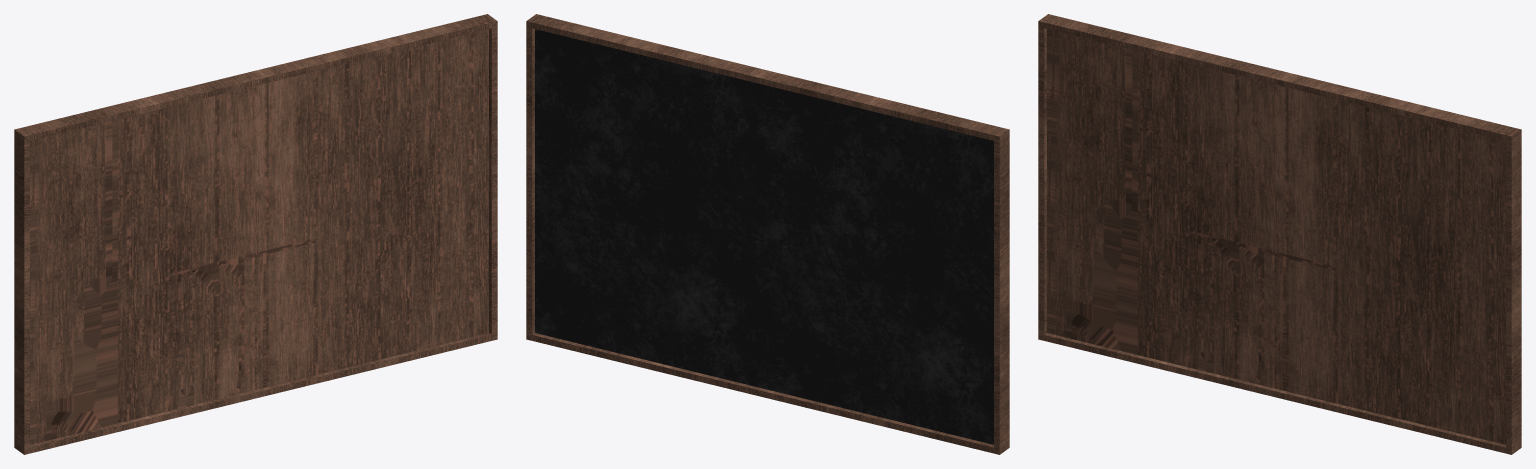
The model's file is board-GUbT5JNx.glb.
3 views of the same model, side by side, from view 1: azimuth 30°, elevation 25°; view 2: azimuth 150°, elevation 25°; view 3: azimuth 330°, elevation 25° (orthographic).
Parts seen in each view (by area): view 1: Cube.001; view 2: Cube.001; view 3: Cube.001.
Boxes of the visible parts, x1,y1,x2,y2 form: Cube.001: (14,14,497,454); Cube.001: (526,14,1009,454); Cube.001: (1038,14,1521,454).
Bounding box in the file's own units: 1.68 × 1.08 × 0.06.
1 material, 1 textured.
